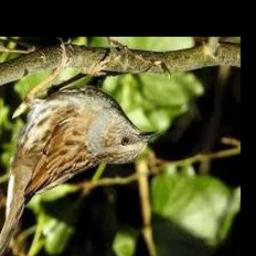Sparrow: (0, 40, 159, 256)
